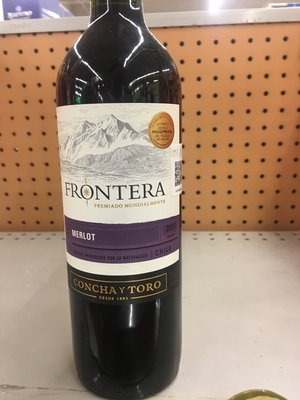frontera merlot: (54, 15, 214, 393)
